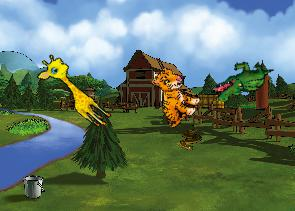crocodile: (208, 47, 275, 115)
giraffe: (32, 50, 120, 131)
tiger: (137, 63, 207, 132)
